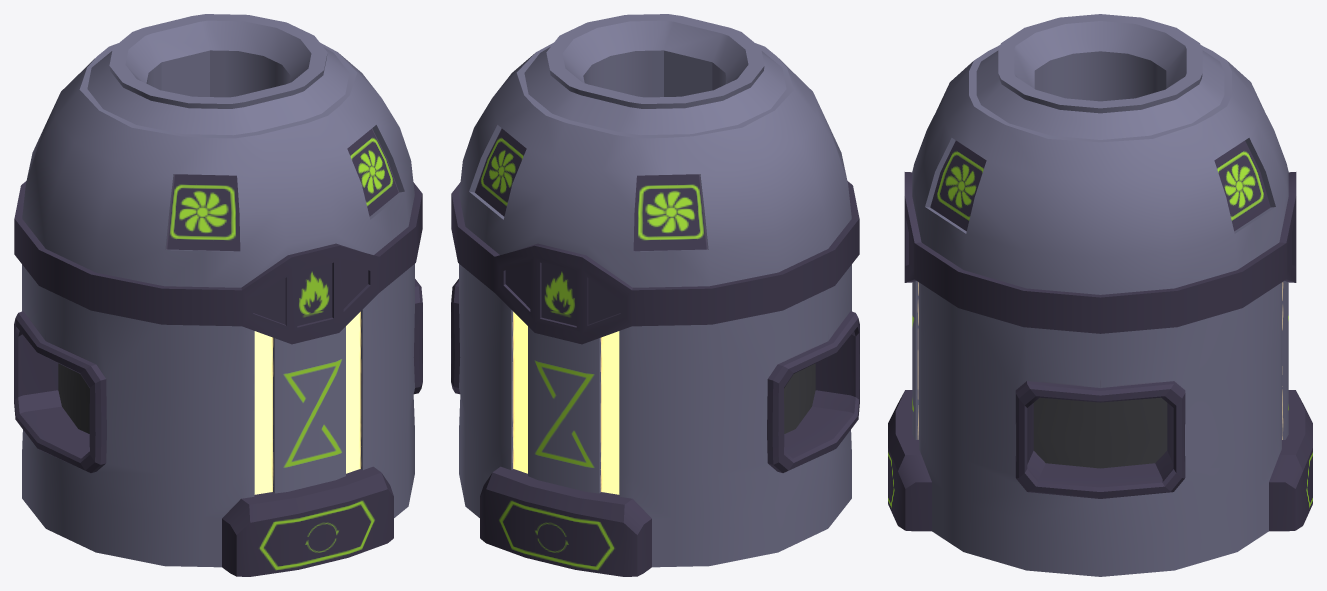
Rendered from Furnace.fbx.
3 renders of one model, left to right at view 1: azimuth 30°, elevation 25°; view 2: azimuth 150°, elevation 25°; view 3: azimuth 270°, elevation 25°, orthographic.
Visible parts, largest first — view 1: Furnace.001; view 2: Furnace.001; view 3: Furnace.001.
Boxes of the visible parts, <box> form: Furnace.001: <box>14,14,422,576</box>; Furnace.001: <box>451,14,859,576</box>; Furnace.001: <box>888,14,1312,576</box>.
Bounding box in the file's own units: 97.67 × 110 × 98.37.
